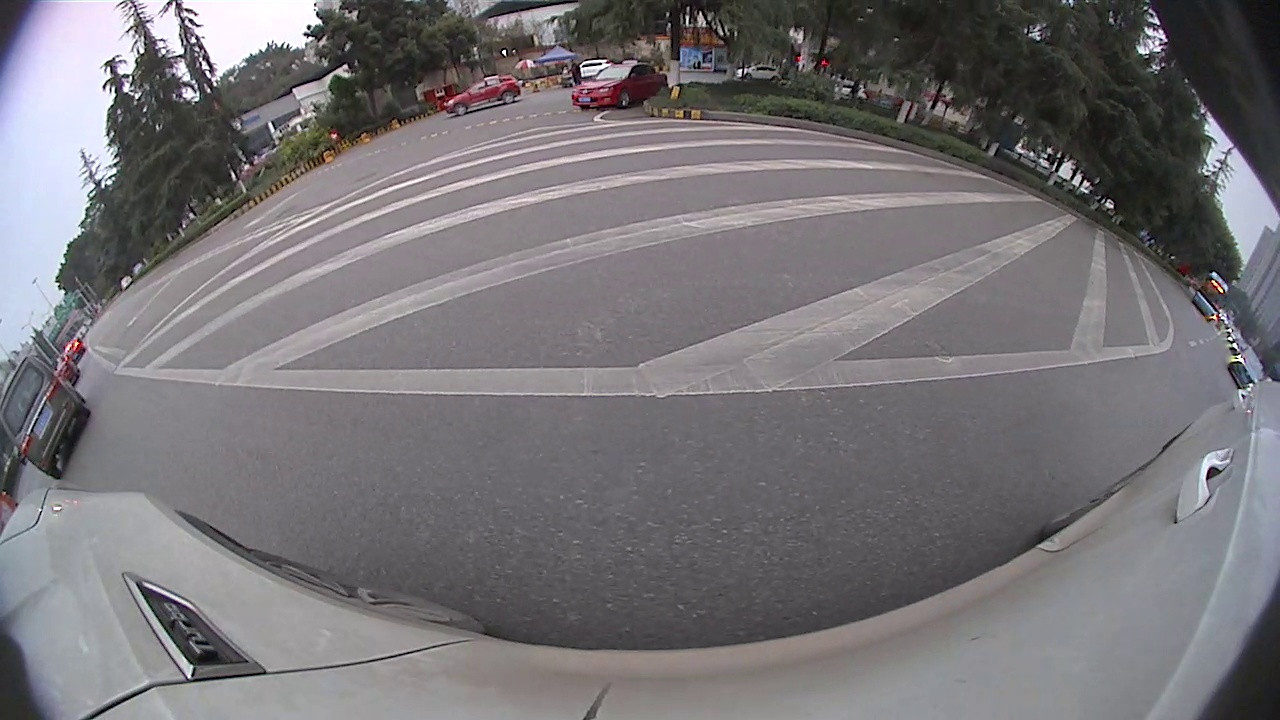car: (403, 33, 762, 176), (22, 241, 162, 385), (301, 73, 436, 158), (940, 141, 1048, 237), (1168, 361, 1236, 454), (81, 191, 167, 250), (1099, 258, 1162, 335), (160, 158, 241, 215)
front: (671, 122, 736, 180), (1021, 210, 1043, 237)
rear: (445, 120, 500, 178), (324, 132, 349, 161), (979, 189, 1004, 217)
